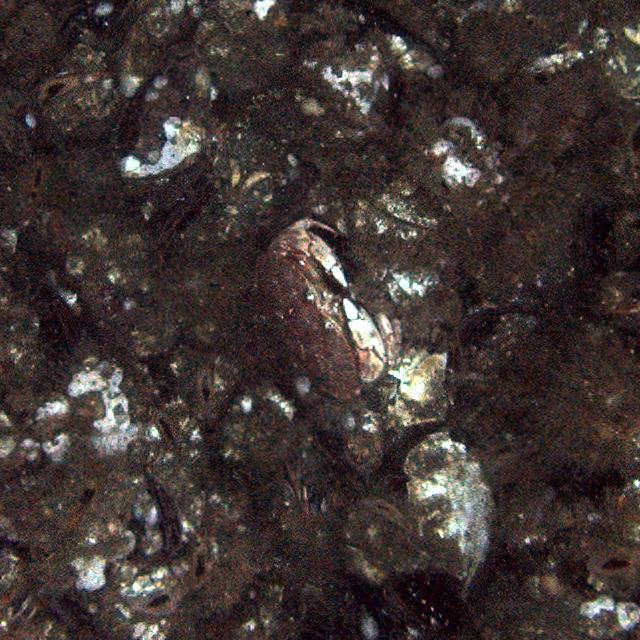crab: (256, 217, 398, 405)
